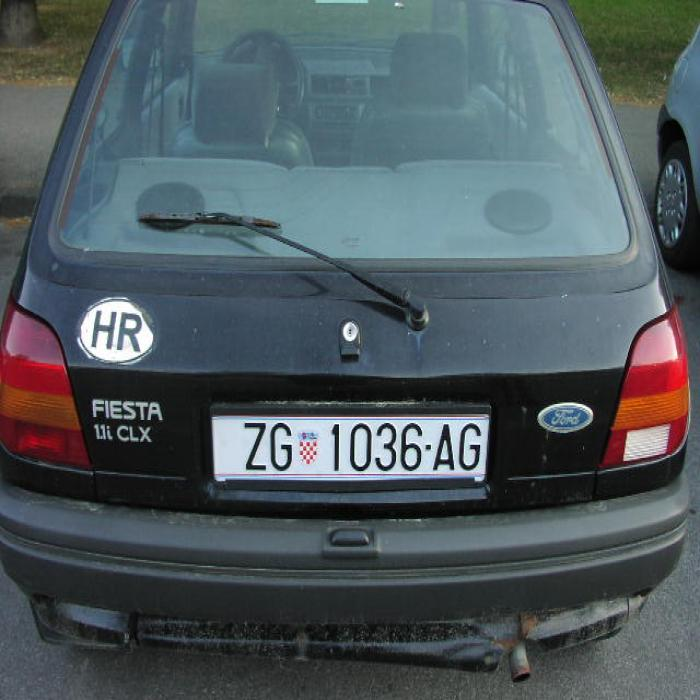number_plate: (210, 416, 486, 474)
